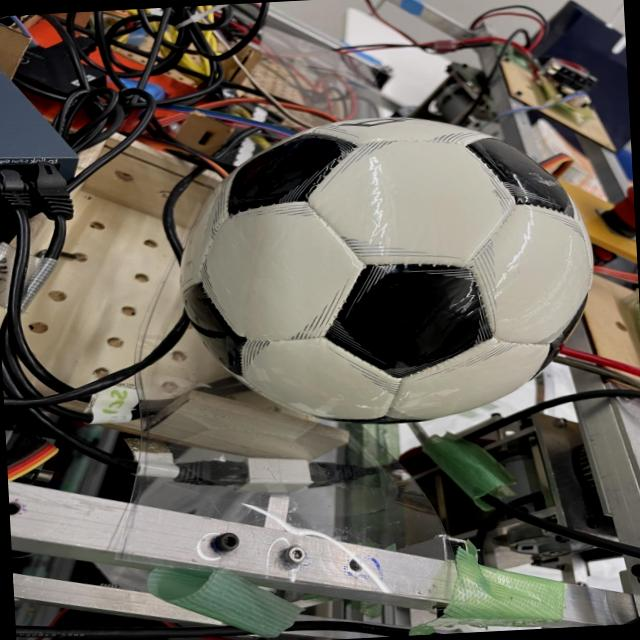Soccer Ball: (178, 108, 604, 434)
